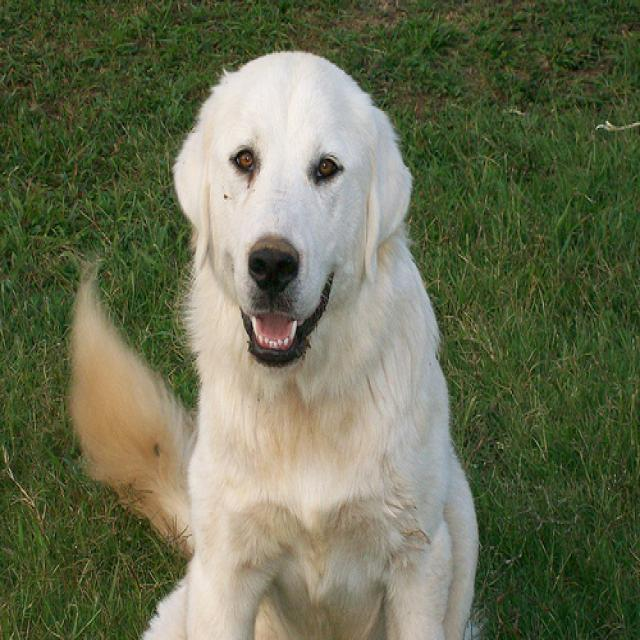dog-great_pyrenees: (58, 43, 494, 637)
